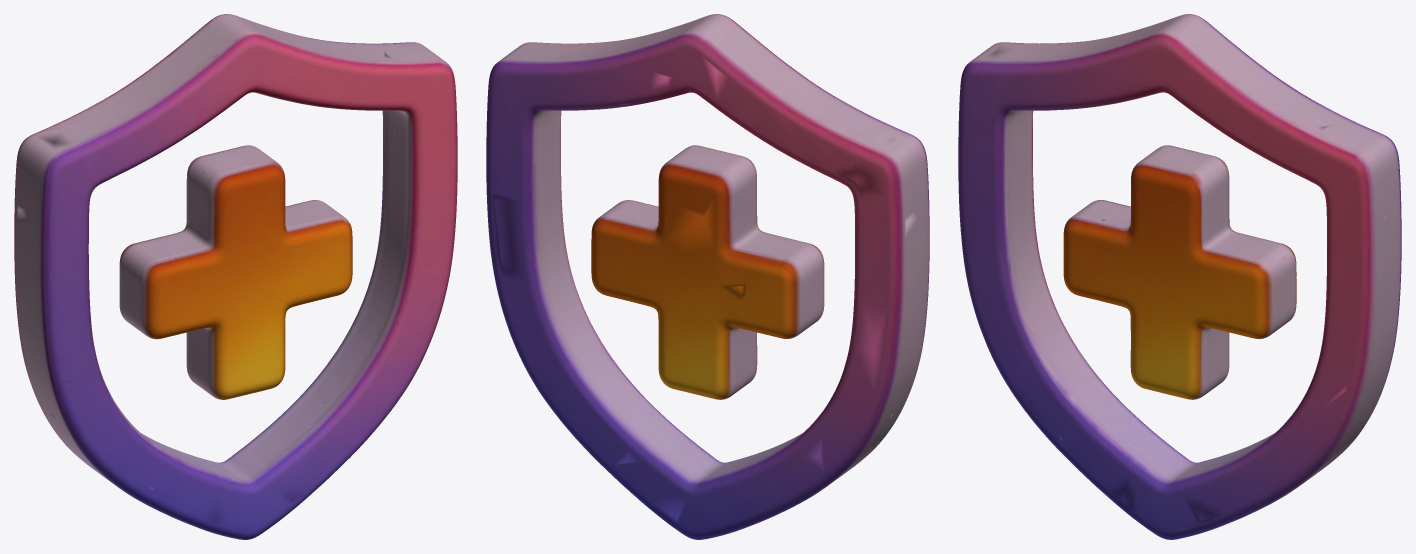
File: shield.glb
3 renders of one model, left to right at view 1: azimuth 30°, elevation 25°; view 2: azimuth 150°, elevation 25°; view 3: azimuth 330°, elevation 25°, orthographic.
Parts seen in each view (by area): view 1: node_0; view 2: node_0; view 3: node_0.
Boxes of the visible parts, bbox=[...] form: node_0: bbox=[14, 14, 457, 539]; node_0: bbox=[486, 14, 929, 539]; node_0: bbox=[958, 14, 1401, 539].
Size of the model in its own units: 0.9591 by 1.11 by 0.1394.
1 material, 1 textured.
